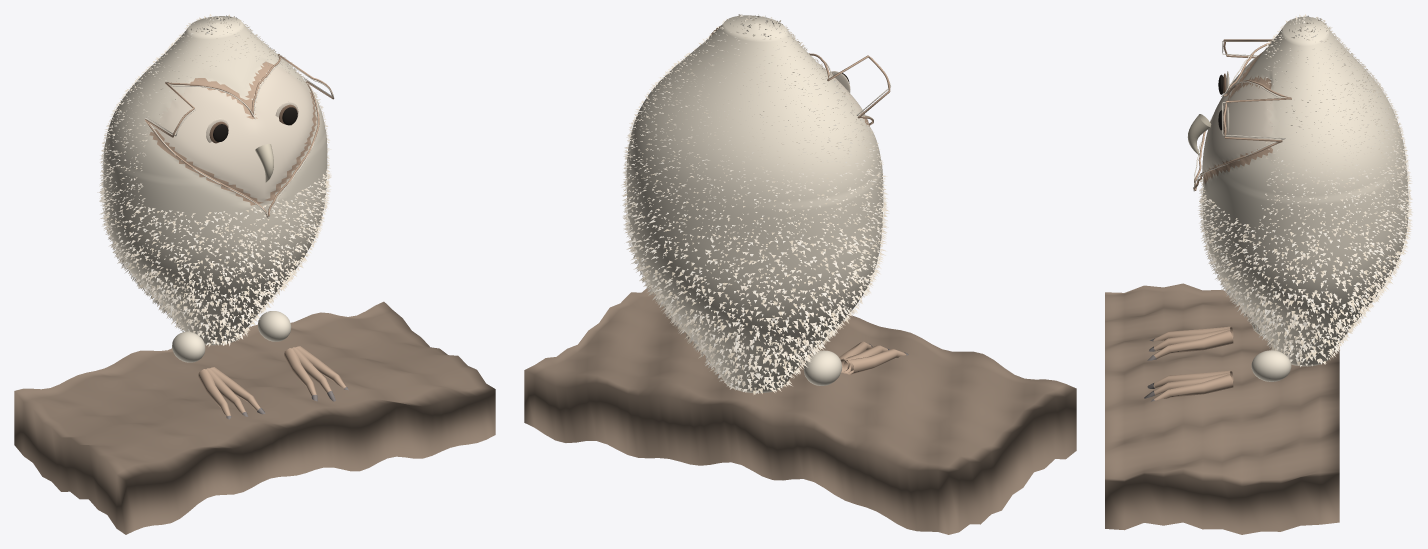
Rendered from owl172_run81_organic_integrated_face_ART_PENDING.glb.
3 renders of one model, left to right at view 1: azimuth 30°, elevation 25°; view 2: azimuth 150°, elevation 25°; view 3: azimuth 270°, elevation 25°, orthographic. The views are drawn at different scales.
Parts seen in each view (by area): view 1: solid eroded mature eucalyptus hollow ledge, one continuous organic juvenile loft, curved second-down filament batch 1, curved second-down filament batch 0, curved second-down filament batch 4, curved second-down filament batch 2, curved second-down filament batch 3, soft subtle integrated face edge, thin down edge 0, mostly concealed crouched tarsus.001, mostly concealed crouched tarsus; view 2: solid eroded mature eucalyptus hollow ledge, one continuous organic juvenile loft, curved second-down filament batch 4, curved second-down filament batch 3, curved second-down filament batch 0, curved second-down filament batch 2, curved second-down filament batch 1, mostly concealed crouched tarsus.001, short juvenile toe -1_0; view 3: one continuous organic juvenile loft, solid eroded mature eucalyptus hollow ledge, curved second-down filament batch 3, curved second-down filament batch 0, curved second-down filament batch 2, curved second-down filament batch 4, curved second-down filament batch 1, soft subtle integrated face edge, mostly concealed crouched tarsus, short juvenile toe -1_2, short juvenile toe 1_2, thin down edge 0 (+5 smaller).
Boxes of the visible parts, <box> form: solid eroded mature eucalyptus hollow ledge: <box>14,301,495,534</box>; one continuous organic juvenile loft: <box>103,16,327,345</box>; curved second-down filament batch 1: <box>99,16,331,345</box>; curved second-down filament batch 0: <box>99,15,331,343</box>; curved second-down filament batch 4: <box>97,14,330,345</box>; curved second-down filament batch 2: <box>99,15,331,345</box>; curved second-down filament batch 3: <box>100,14,331,346</box>; soft subtle integrated face edge: <box>145,54,334,217</box>; thin down edge 0: <box>145,58,333,218</box>; mostly concealed crouched tarsus.001: <box>172,331,205,362</box>; mostly concealed crouched tarsus: <box>257,311,291,341</box>; solid eroded mature eucalyptus hollow ledge: <box>524,287,1076,534</box>; one continuous organic juvenile loft: <box>626,15,883,393</box>; curved second-down filament batch 4: <box>624,15,887,392</box>; curved second-down filament batch 3: <box>621,17,887,394</box>; curved second-down filament batch 0: <box>621,14,888,393</box>; curved second-down filament batch 2: <box>622,14,889,393</box>; curved second-down filament batch 1: <box>623,14,889,392</box>; mostly concealed crouched tarsus.001: <box>803,350,842,385</box>; short juvenile toe -1_0: <box>843,349,905,374</box>; one continuous organic juvenile loft: <box>1202,16,1408,366</box>; solid eroded mature eucalyptus hollow ledge: <box>1105,283,1339,534</box>; curved second-down filament batch 3: <box>1199,16,1412,365</box>; curved second-down filament batch 0: <box>1199,15,1412,366</box>; curved second-down filament batch 2: <box>1198,14,1412,366</box>; curved second-down filament batch 4: <box>1199,16,1412,365</box>; curved second-down filament batch 1: <box>1198,14,1412,364</box>; soft subtle integrated face edge: <box>1193,39,1291,190</box>; mostly concealed crouched tarsus: <box>1251,350,1291,381</box>; short juvenile toe -1_2: <box>1154,330,1233,358</box>; short juvenile toe 1_2: <box>1154,374,1233,400</box>; thin down edge 0: <box>1193,41,1285,191</box>.
Bounding box in the file's own units: 2.24 × 2.34 × 1.54.
